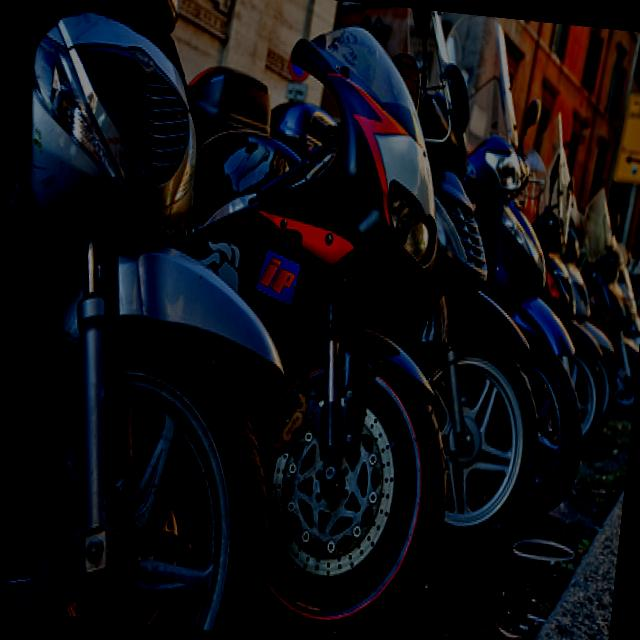Vehicle: (0, 0, 327, 635), (152, 177, 484, 640), (398, 11, 623, 512), (366, 9, 576, 545), (163, 7, 460, 326), (499, 116, 631, 442), (558, 181, 640, 413), (546, 227, 630, 436)
